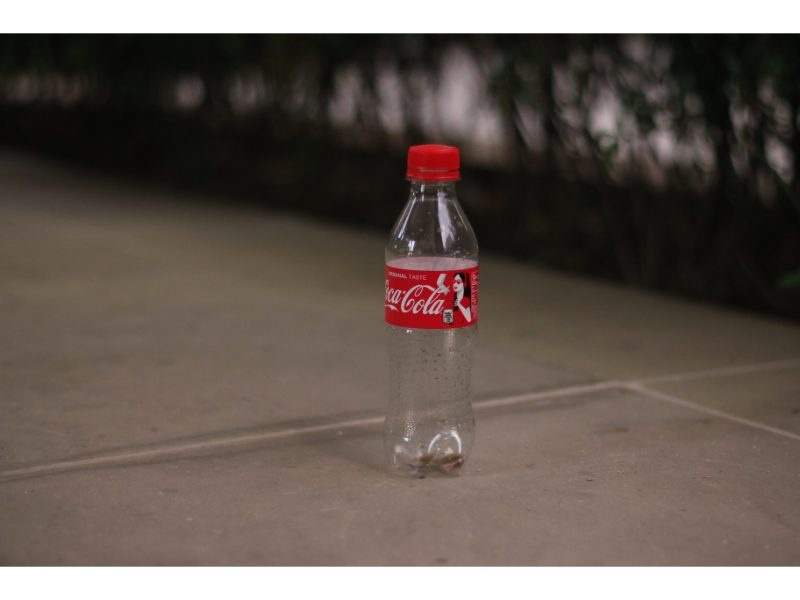PET #1: (384, 139, 480, 486)
